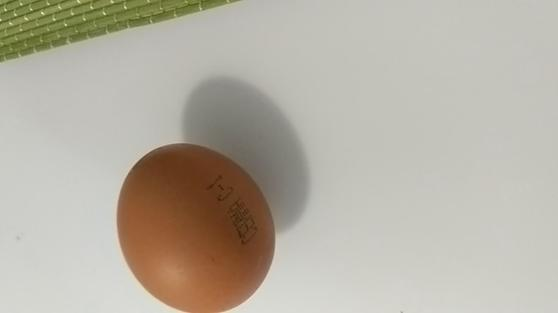egg: (121, 140, 277, 311)
